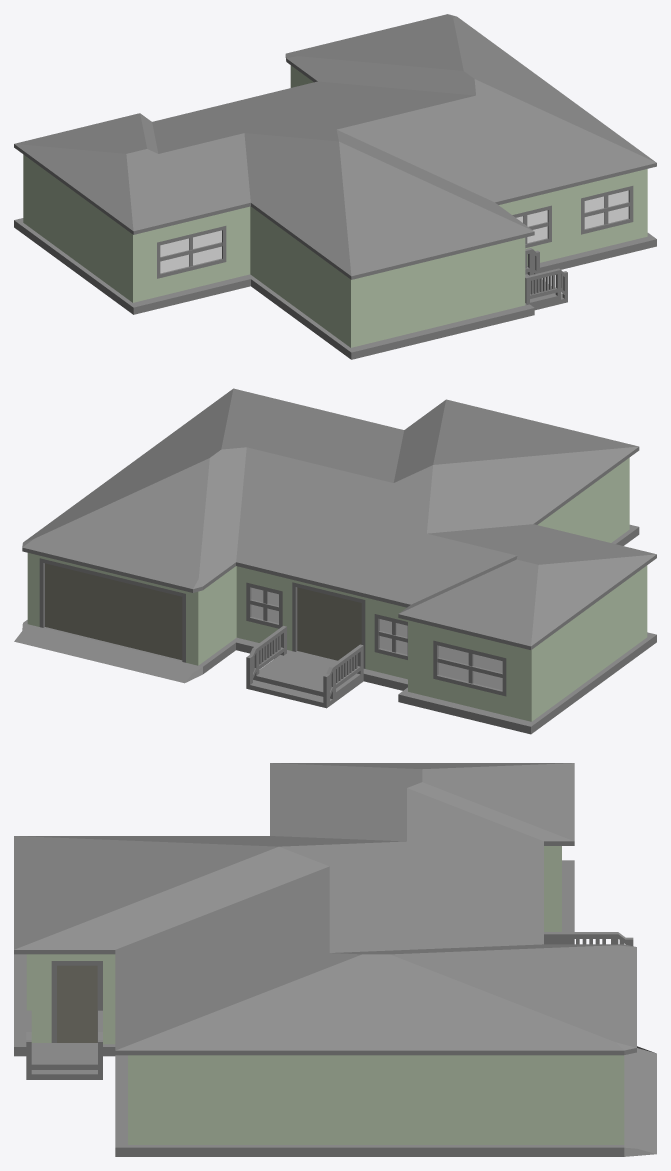
Rendered from House #8.fbx.
3 renders of one model, top to bottom at view 1: azimuth 30°, elevation 25°; view 2: azimuth 150°, elevation 25°; view 3: azimuth 270°, elevation 25°, orthographic. The views are drawn at different scales.
Visible parts, largest first — view 1: building_001; view 2: building_001; view 3: building_001.
Boxes of the visible parts, left/top/right/bottom form: building_001: left=14, top=14, right=656, bottom=359; building_001: left=14, top=388, right=656, bottom=734; building_001: left=14, top=763, right=656, bottom=1156.
Bounding box in the file's own units: 1333 × 330 × 1260.
